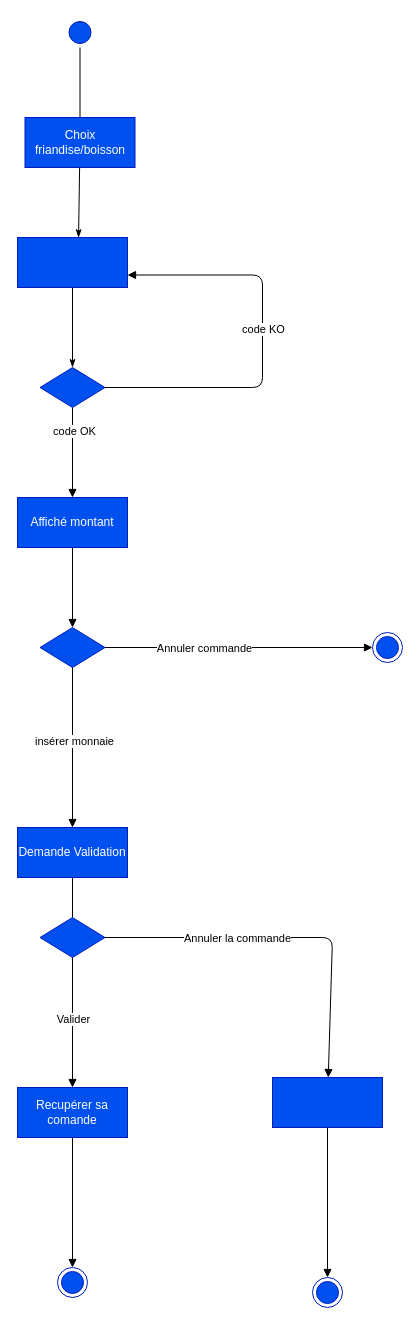
This 420x1325 diagram has some shape labels left out. The centre of each missing label's shape, as x and y in pixels:
"Recupérer sa monnaie" goes at point (327, 1102).
"saisir code" goes at point (72, 262).
